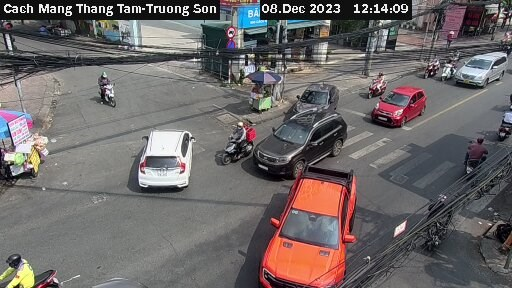car: (259, 163, 362, 288), (255, 111, 350, 179), (137, 123, 200, 189), (373, 85, 427, 132), (292, 80, 343, 120), (458, 50, 509, 88)
motorbike: (454, 138, 493, 185), (93, 72, 130, 116), (217, 123, 252, 163), (363, 72, 393, 97), (425, 55, 443, 85), (497, 104, 512, 135), (439, 58, 457, 82)
